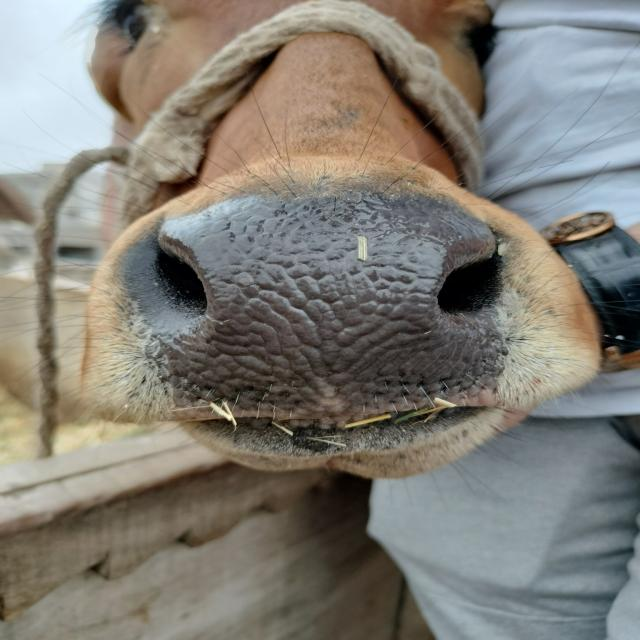muzzles: (116, 181, 516, 439)
